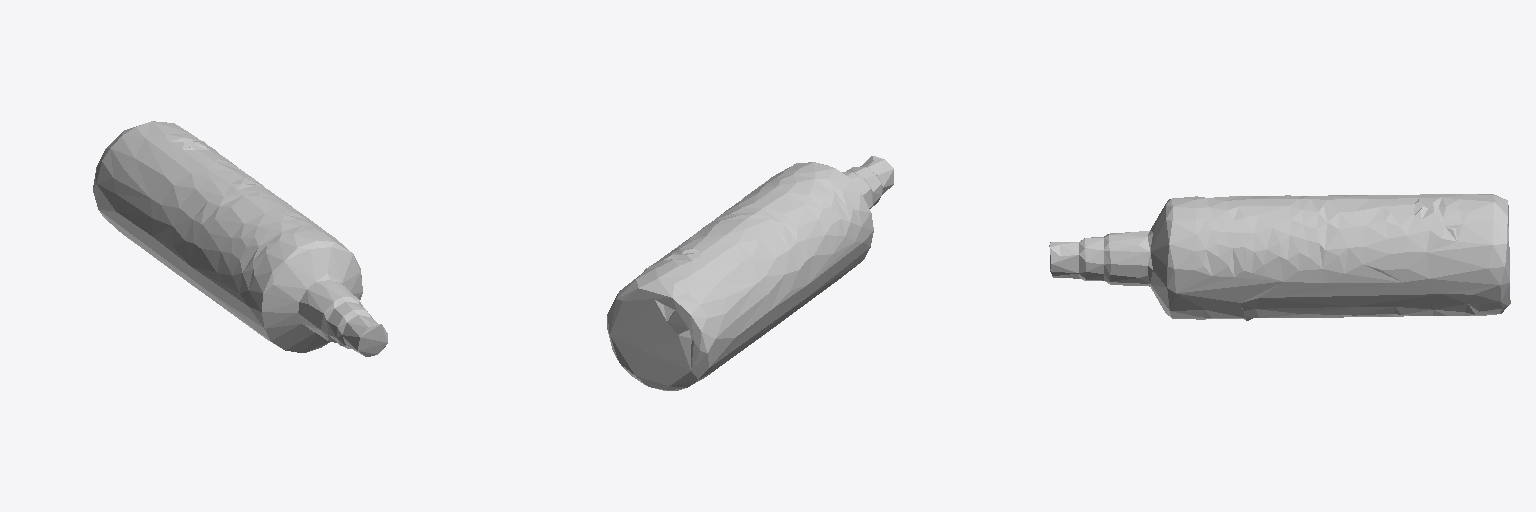
The model's file is bottle7.obj.
3 renders of one model, left to right at view 1: azimuth 30°, elevation 25°; view 2: azimuth 150°, elevation 25°; view 3: azimuth 270°, elevation 25°, orthographic.
Parts seen in each view (by area): view 1: HygieneSpray_800_tex; view 2: HygieneSpray_800_tex; view 3: HygieneSpray_800_tex.
Boxes of the visible parts, <box> form: HygieneSpray_800_tex: <box>93,121,387,356</box>; HygieneSpray_800_tex: <box>607,156,893,390</box>; HygieneSpray_800_tex: <box>1049,194,1510,320</box>.
Bounding box in the file's own units: 0.0442 × 0.045 × 0.1642.